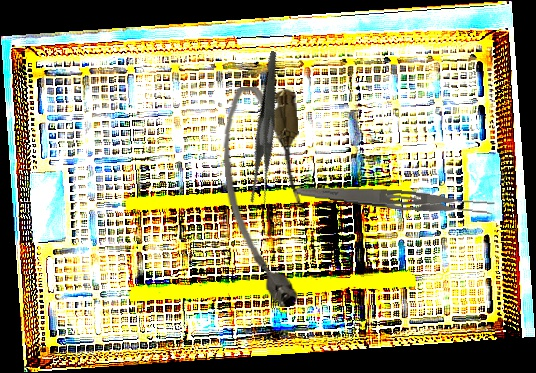Cannula: (219, 83, 311, 311)
Dressing Forceps: (212, 50, 323, 208), (292, 182, 496, 219)
